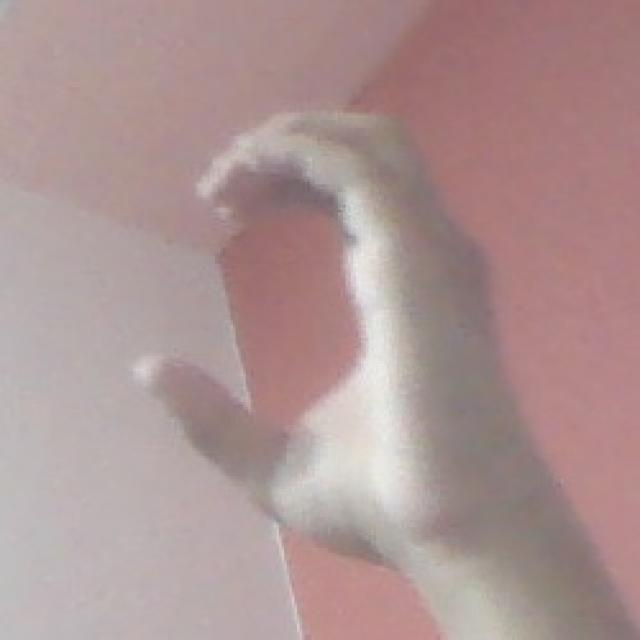Alphabet-C: (127, 71, 509, 586)
